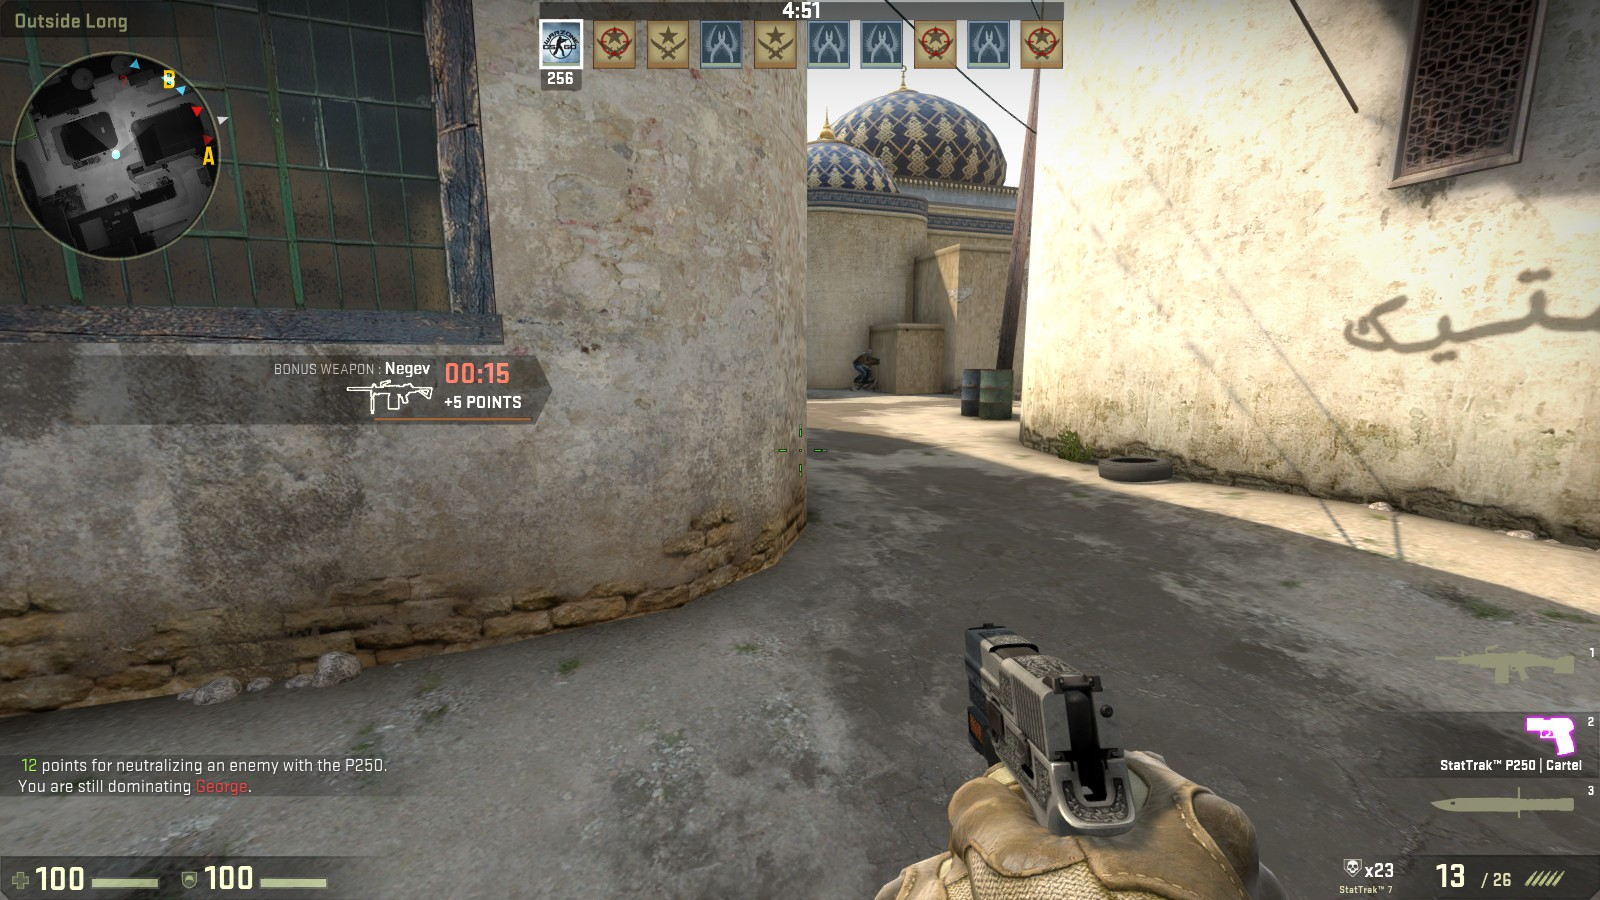t: (851, 347, 877, 386)
th: (865, 348, 874, 358)
